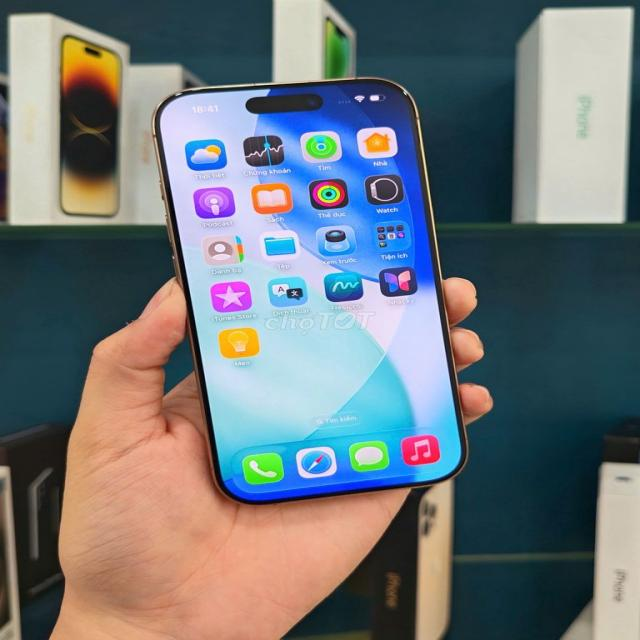gen_16: (152, 78, 466, 504)
